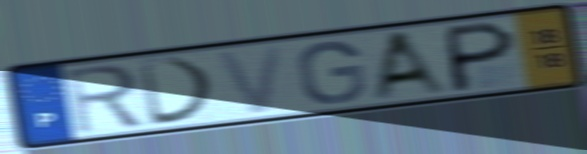A: (368, 27, 455, 102)
D: (135, 54, 220, 129)
G: (294, 38, 369, 107)
P: (445, 18, 519, 94)
R: (63, 62, 149, 137)
V: (212, 42, 288, 117)
